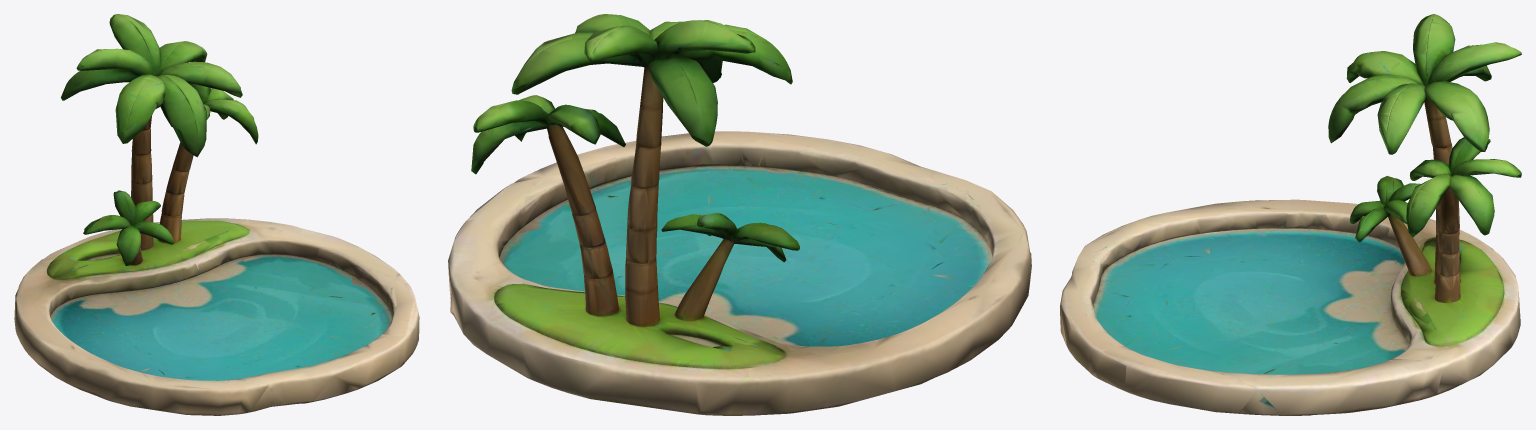
File: oasis_pbr.glb
The picture shows the model from 3 angles, left to right: view 1: azimuth 30°, elevation 25°; view 2: azimuth 150°, elevation 25°; view 3: azimuth 270°, elevation 25°; orthographic projection. The views are drawn at different scales.
Visible parts, largest first — view 1: model; view 2: model; view 3: model.
Part boxes in pixels (x1=…): model: x1=14, y1=14, x2=419, y2=415; model: x1=448, y1=14, x2=1031, y2=415; model: x1=1060, y1=14, x2=1521, y2=415.
Size of the model in its own units: 1.76 by 1.21 by 1.82.
Materials: 1 (1 with a texture image).
